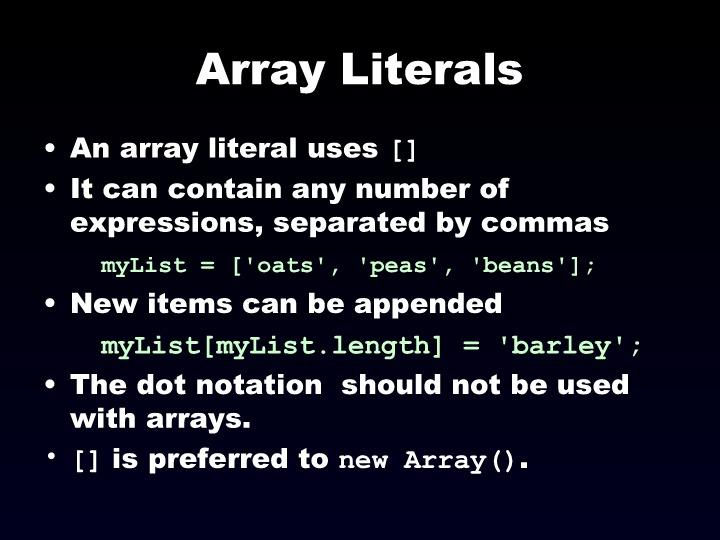paragraph: (31, 126, 651, 498), (184, 42, 533, 102)
